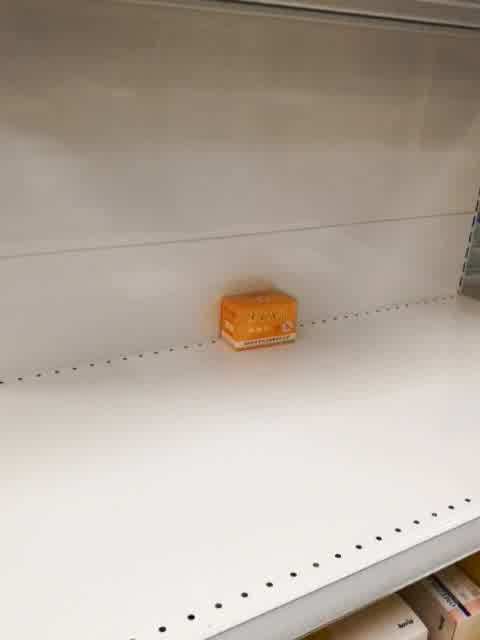jasminetea: (219, 286, 299, 352)
